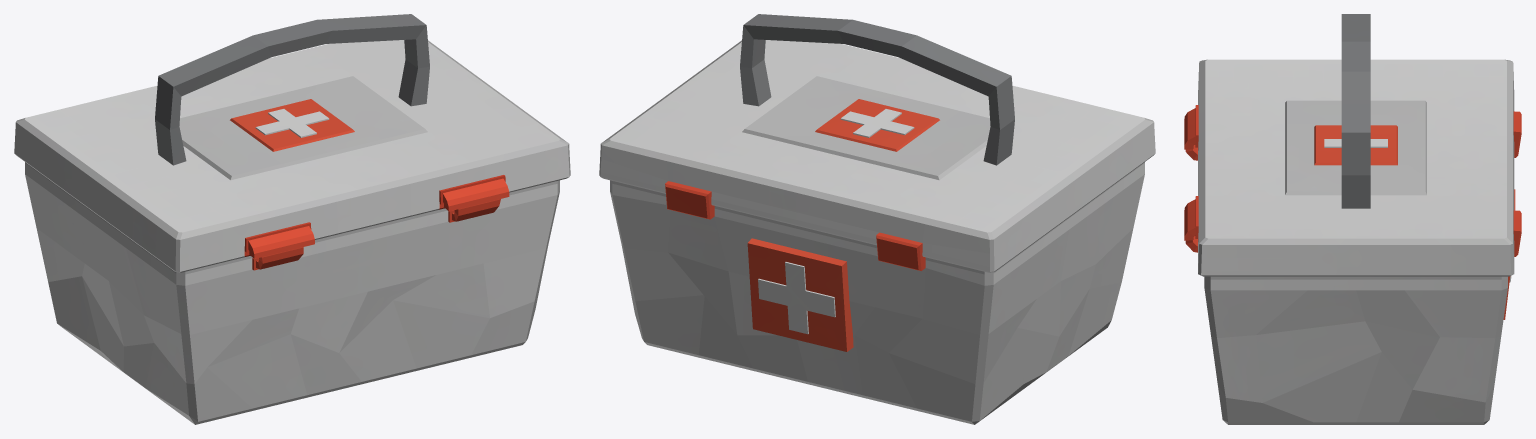
The model's file is medpack_1.glb.
3 views of the same model, side by side, from view 1: azimuth 30°, elevation 25°; view 2: azimuth 150°, elevation 25°; view 3: azimuth 270°, elevation 25° (orthographic). The views are drawn at different scales.
Visible parts, largest first — view 1: medpack_1; view 2: medpack_1; view 3: medpack_1.
Part boxes in pixels (x1=…): medpack_1: x1=14, y1=14, x2=570, y2=424; medpack_1: x1=599, y1=14, x2=1155, y2=424; medpack_1: x1=1184, y1=14, x2=1521, y2=424.
Size of the model in its own units: 0.4011 by 0.2941 by 0.3088.
Materials: 1 (1 with a texture image).
